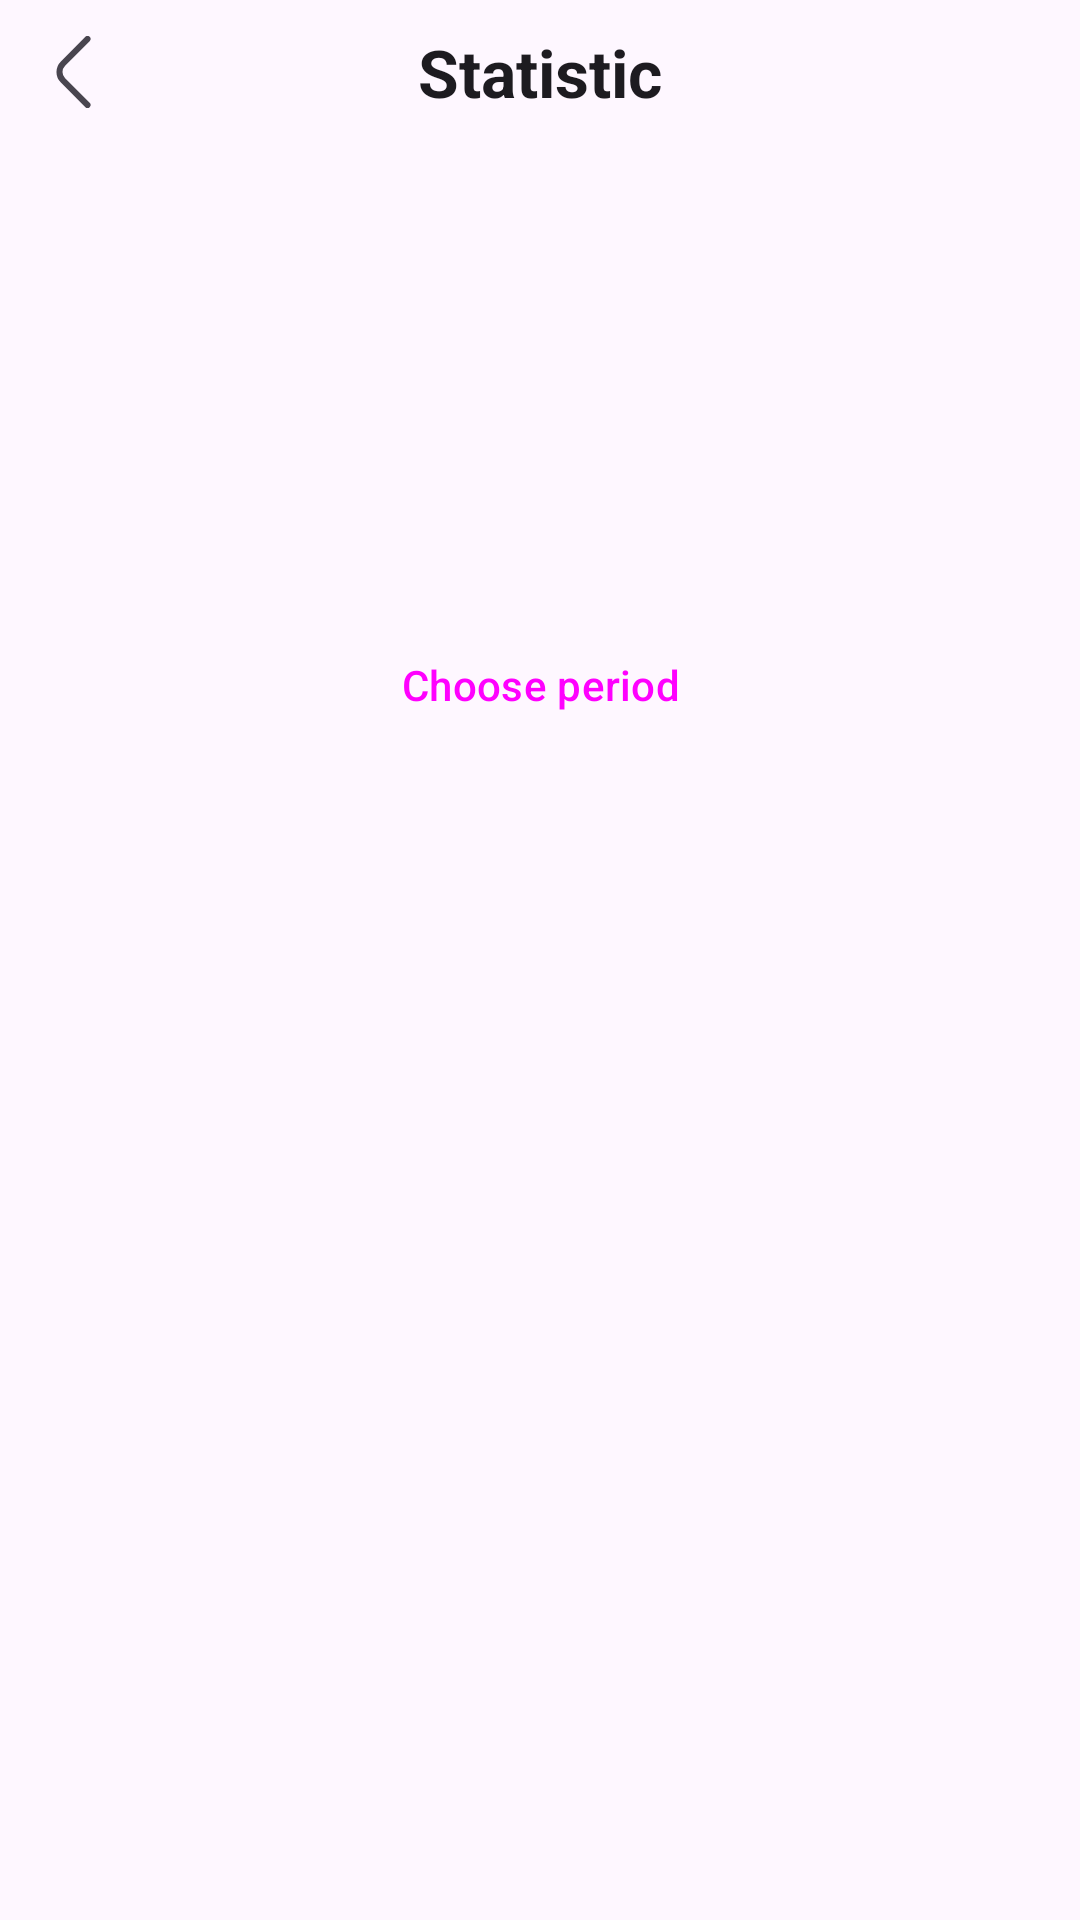

Icon click points for this 1080 × 1920 phone screenshot, format (x=x, y=y):
back: (x=73, y=72)
